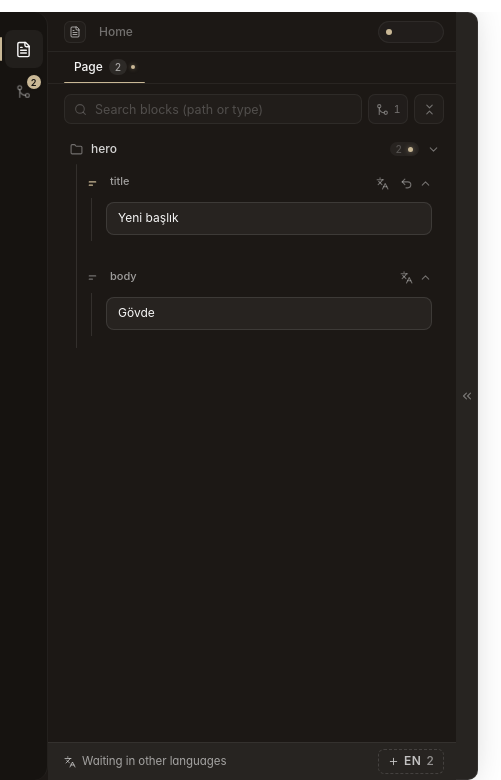
Test: the lane above the save bar › names every language the save will write once one is included
Expected: the element "Waiting in other languages" is shown, top-left (48, 742), bottom-right (460, 779)
Click the button "EN 2". click: (411, 762)
box: top-left (378, 749), bottom-right (444, 774)
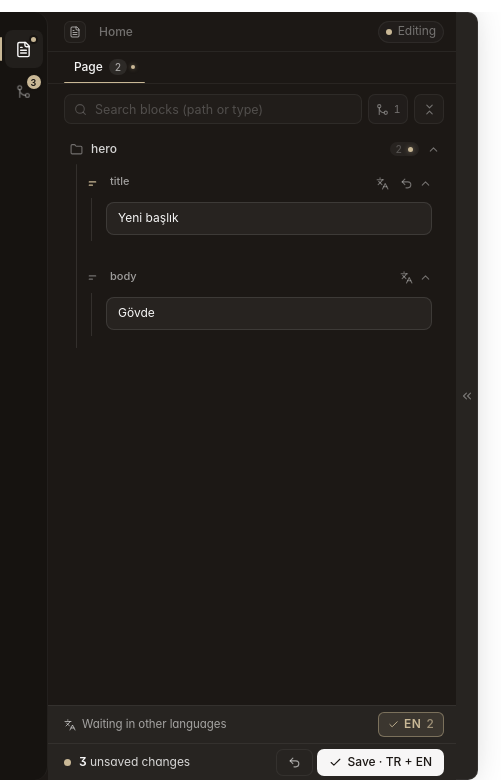
Expected: the button named "Only blocks with unsaved changes" reads "1", top-left (368, 94), bottom-right (408, 124)
Click the button "Save · TR + EN". click: (380, 762)
box: top-left (316, 748), bottom-right (444, 776)
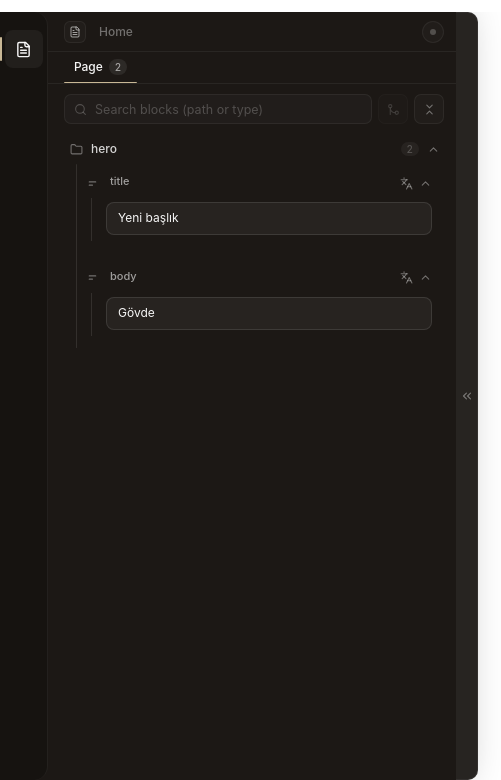
Now the text "Waiting in other languages" is gone
